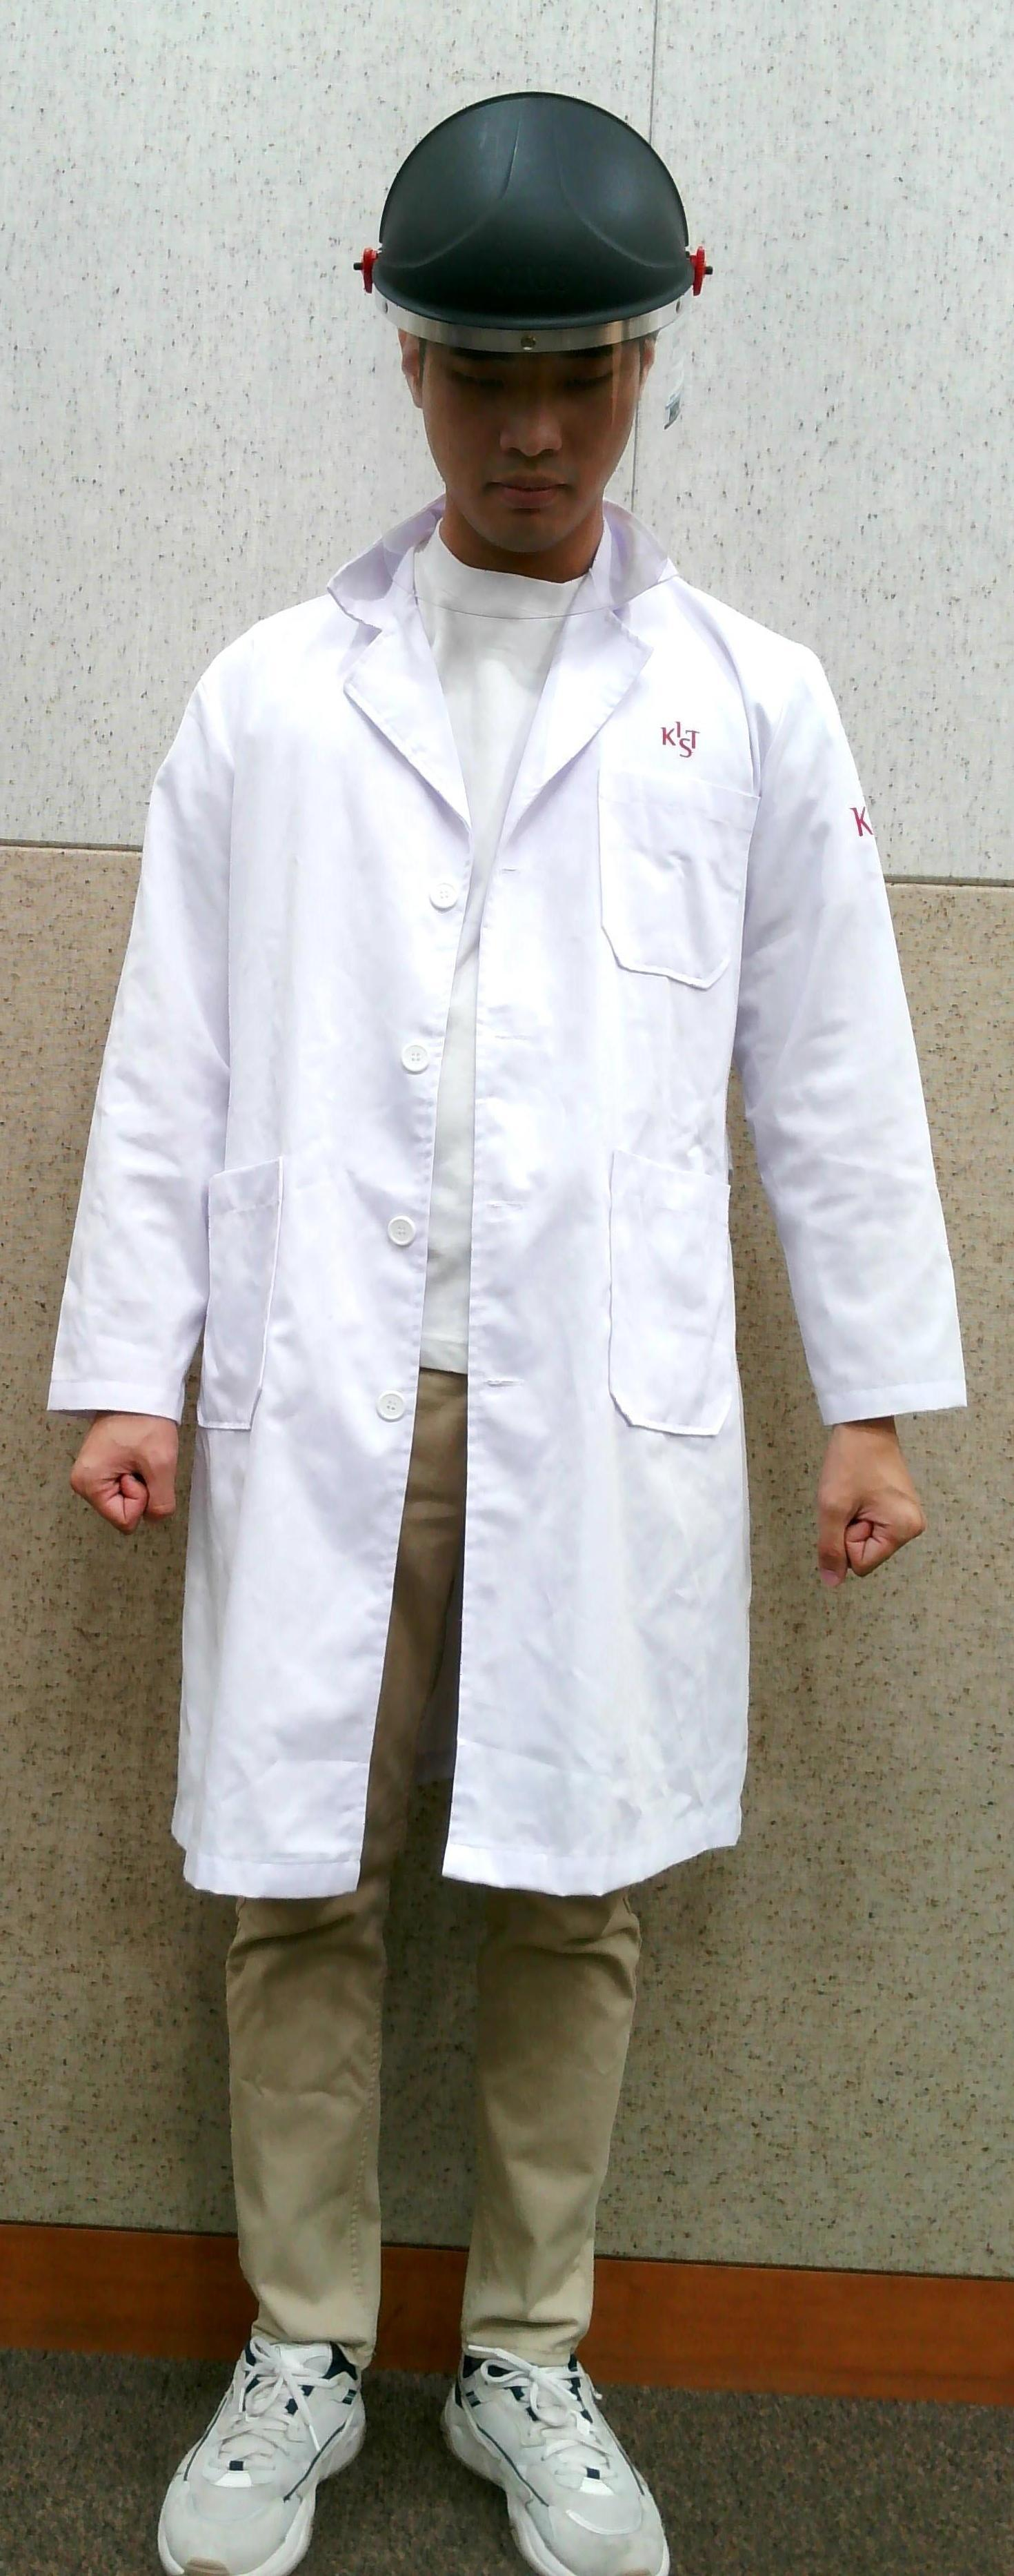lab_coat: (143, 642, 815, 1853)
